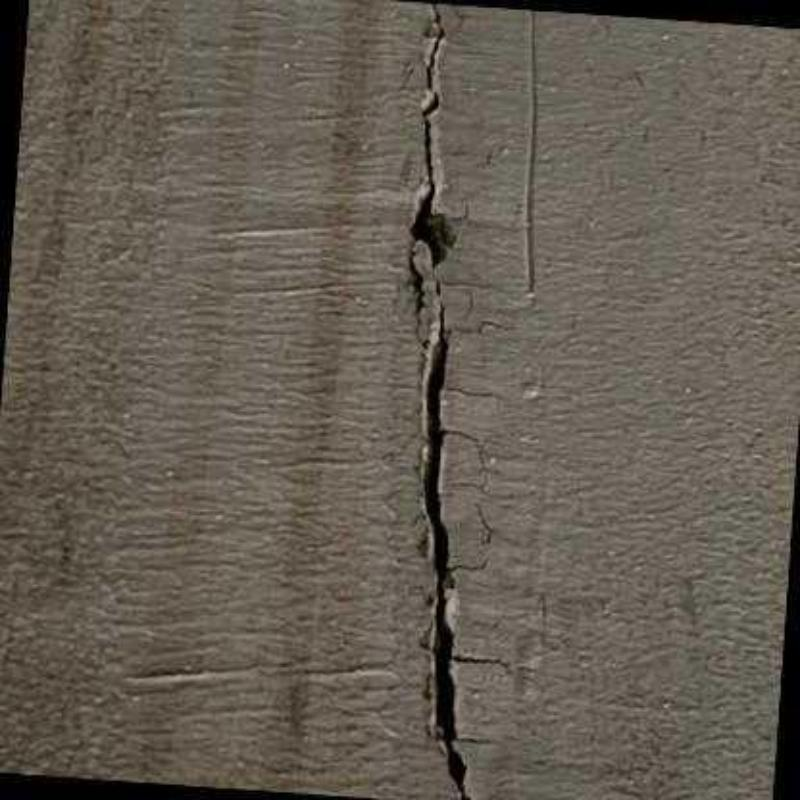pothole: (404, 1, 472, 800)
